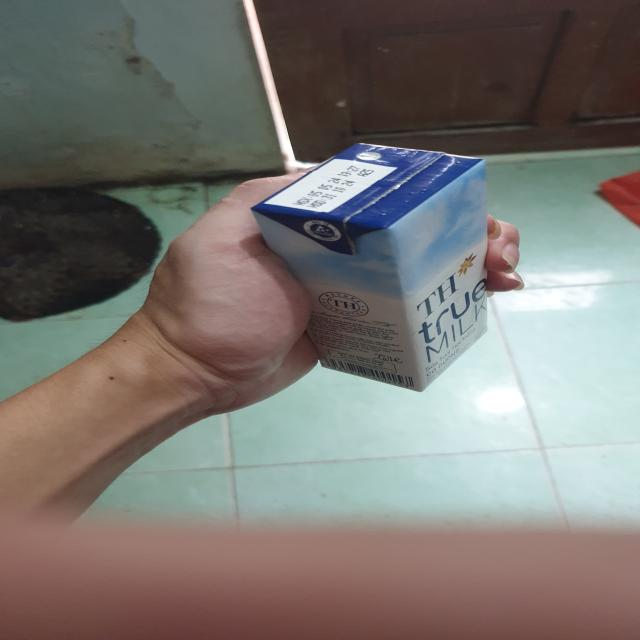TH: (252, 142, 498, 395)
